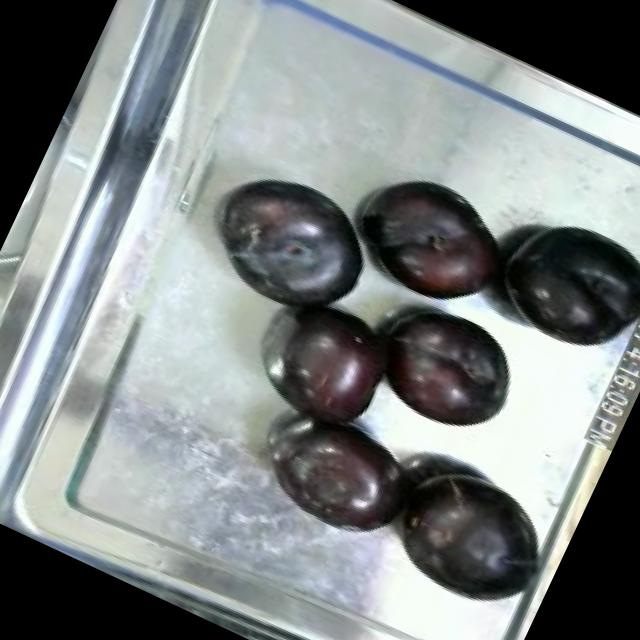Fruit: (191, 149, 395, 338), (373, 446, 567, 624), (334, 154, 528, 330), (351, 282, 538, 459), (246, 392, 434, 562), (240, 278, 418, 454), (475, 194, 640, 372)
